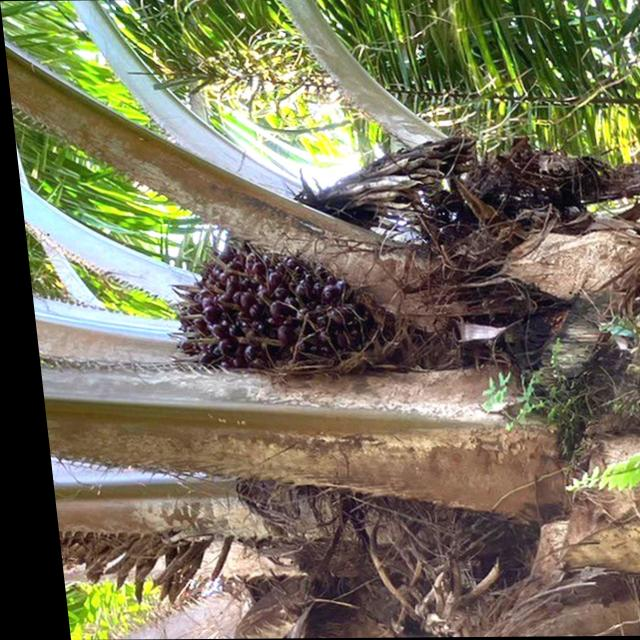ripe: (145, 217, 431, 386)
